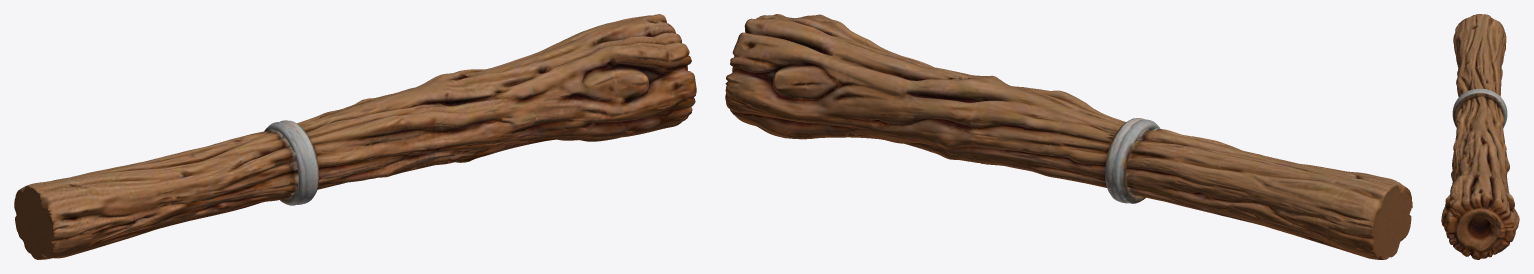
File: david_waist_club_game.glb
3 views of the same model, side by side, from view 1: azimuth 30°, elevation 25°; view 2: azimuth 150°, elevation 25°; view 3: azimuth 270°, elevation 25° (orthographic). The views are drawn at different scales.
Parts seen in each view (by area): view 1: tripo_node_2b6aeb67-4d02-43f5-98a4-edd076da1bb4; view 2: tripo_node_2b6aeb67-4d02-43f5-98a4-edd076da1bb4; view 3: tripo_node_2b6aeb67-4d02-43f5-98a4-edd076da1bb4.
Boxes of the visible parts, <box> form: tripo_node_2b6aeb67-4d02-43f5-98a4-edd076da1bb4: <box>14,14,696,259</box>; tripo_node_2b6aeb67-4d02-43f5-98a4-edd076da1bb4: <box>725,14,1412,259</box>; tripo_node_2b6aeb67-4d02-43f5-98a4-edd076da1bb4: <box>1441,14,1519,259</box>.
Size of the model in its own units: 0.9831 by 0.1585 by 0.1674.
Materials: 1 (1 with a texture image).
